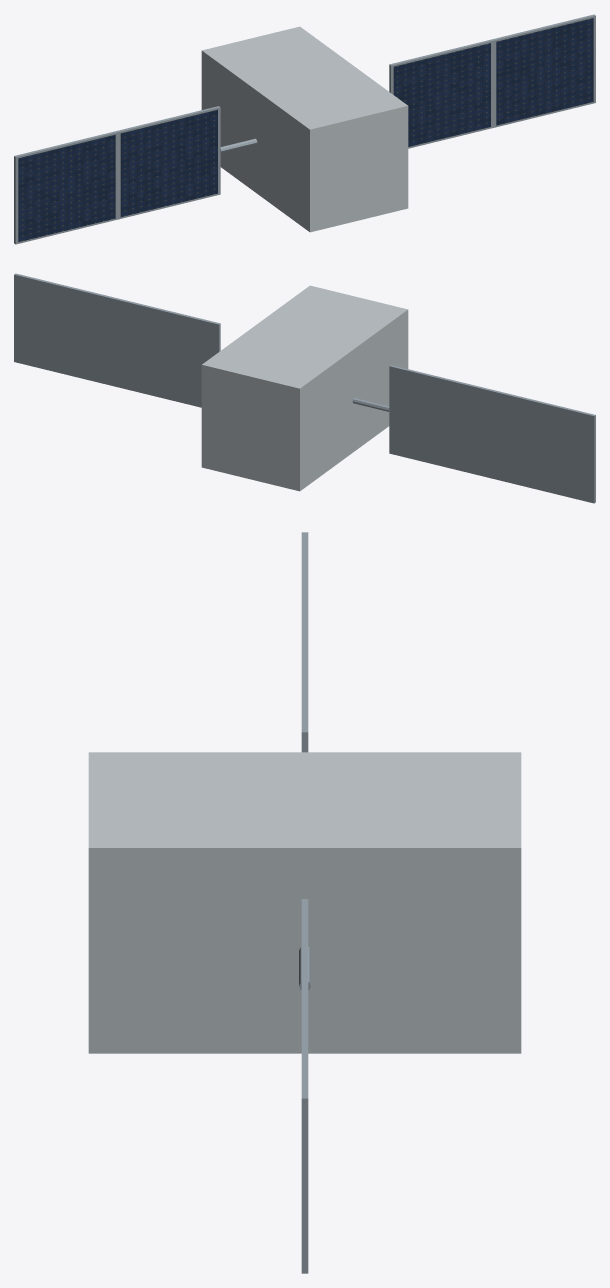
File: ref-ets-3-13492.glb
The picture shows the model from 3 angles, top to bottom: view 1: azimuth 30°, elevation 25°; view 2: azimuth 150°, elevation 25°; view 3: azimuth 270°, elevation 25°; orthographic projection. The views are drawn at different scales.
Visible parts, largest first — view 1: Photovoltaic laminates (×4), Spacecraft body, Array frame (×4); view 2: Array frame (×4), Spacecraft body; view 3: Spacecraft body, Array frame (×2).
Part boxes in pixels (left/top/right/bottom): Photovoltaic laminates (×4): left=18, top=18, right=593, bottom=241; Spacecraft body: left=201, top=26, right=408, bottom=232; Array frame (×4): left=14, top=14, right=595, bottom=244; Array frame (×4): left=14, top=273, right=595, bottom=503; Spacecraft body: left=201, top=285, right=408, bottom=491; Spacecraft body: left=88, top=752, right=521, bottom=1053; Array frame (×2): left=301, top=632, right=308, bottom=1273.
Bounding box in the file's own units: 6.5 × 1.1 × 2.1.
3 materials, 1 textured.
